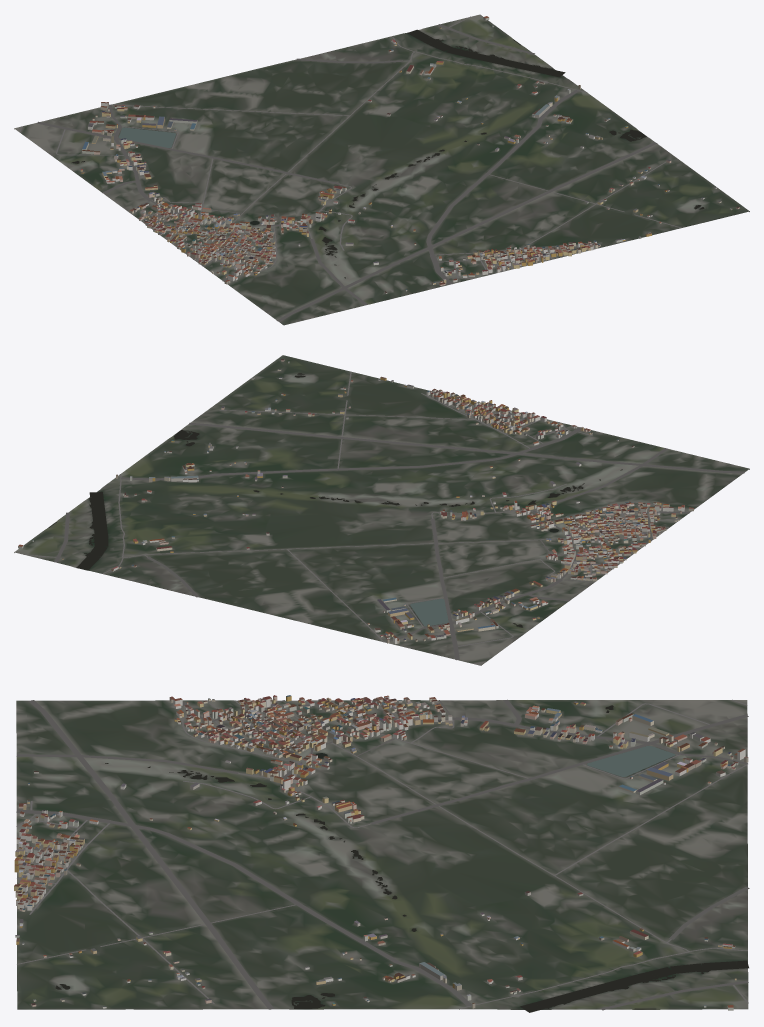
3 views of the same model, one above another, from view 1: azimuth 30°, elevation 25°; view 2: azimuth 150°, elevation 25°; view 3: azimuth 270°, elevation 25° (orthographic). The views are drawn at different scales.
Parts seen in each view (by area): view 1: ground, buildings, roads, water; view 2: ground, buildings, roads, water; view 3: ground, buildings, roads, water.
Part boxes in pixels (<box>): ground: <box>14,14,749,325</box>; buildings: <box>80,16,739,293</box>; roads: <box>19,16,681,321</box>; water: <box>71,29,704,278</box>; ground: <box>14,355,749,665</box>; buildings: <box>18,359,693,644</box>; roads: <box>23,371,744,663</box>; water: <box>48,373,622,627</box>; ground: <box>16,700,748,1009</box>; buildings: <box>14,695,748,1010</box>; roads: <box>16,699,749,1010</box>; water: <box>55,705,748,1012</box>.
Bounding box in the file's own units: 1423 × 24.35 × 1411.
